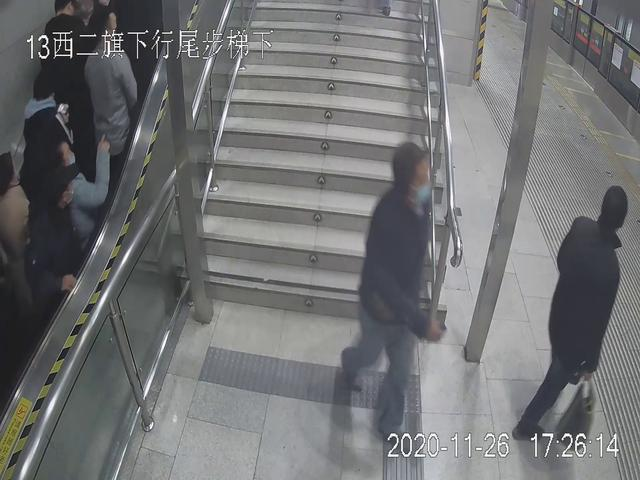person: (337, 141, 455, 447), (503, 181, 631, 444)
